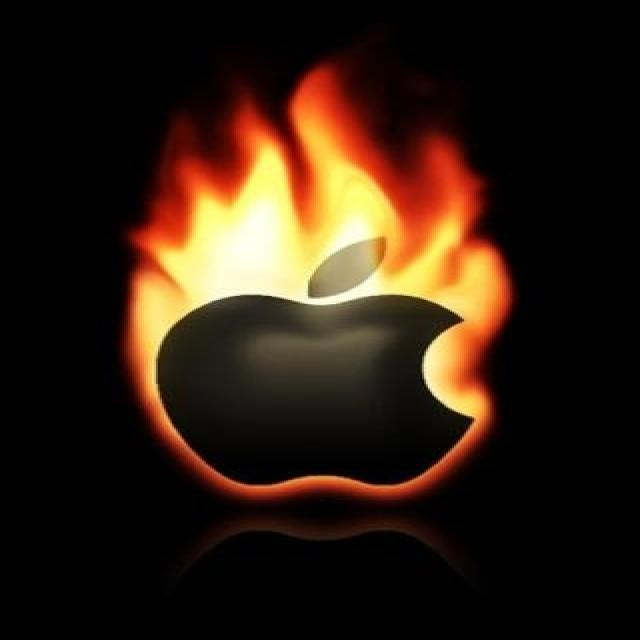apple: (141, 228, 497, 501)
